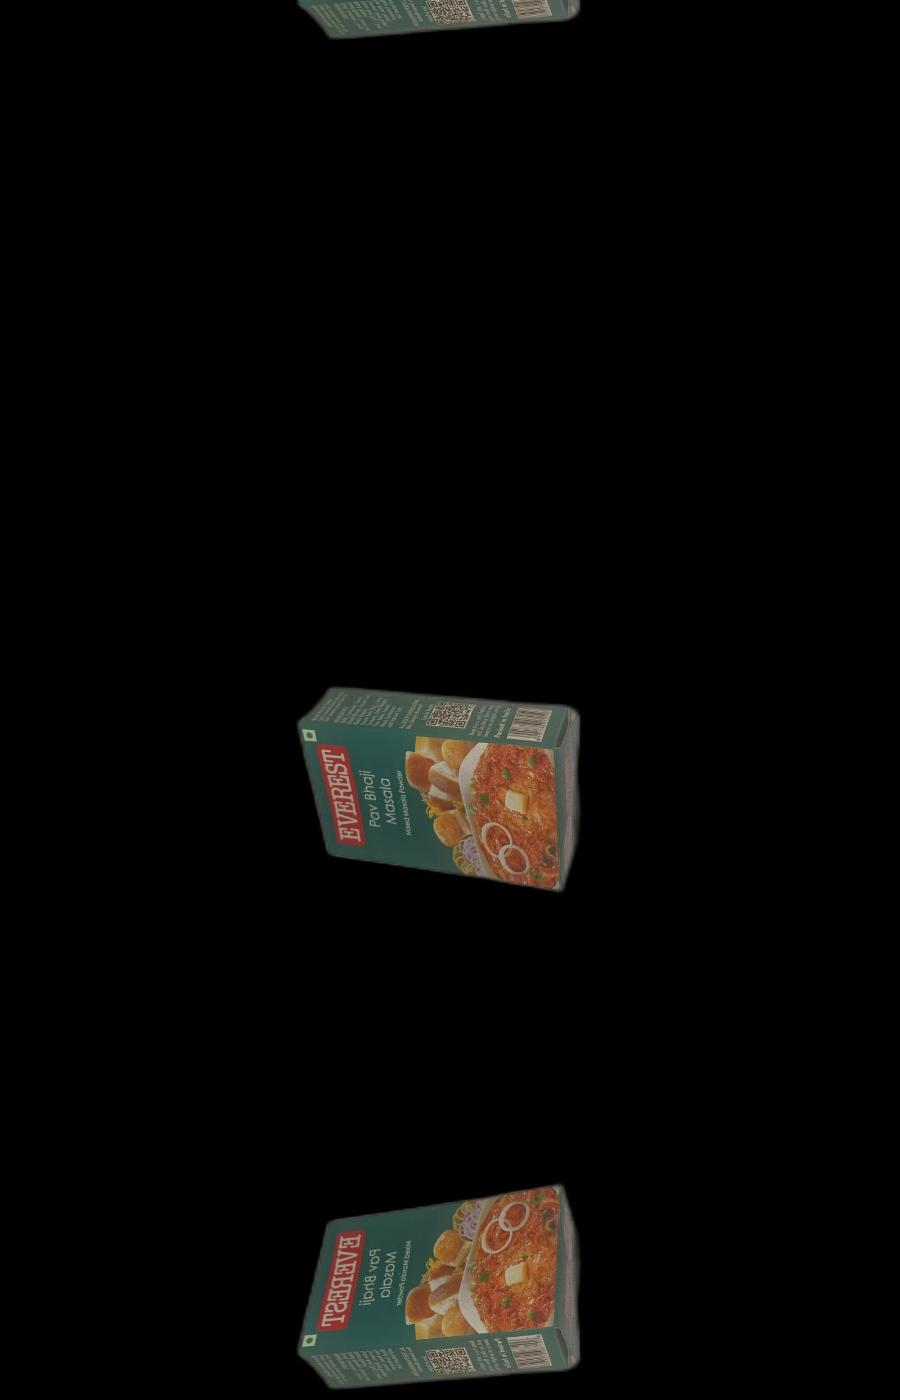Everest Pav Bhaji Masala 100 g: (296, 679, 591, 891), (296, 1183, 591, 1395), (295, 0, 590, 45)
